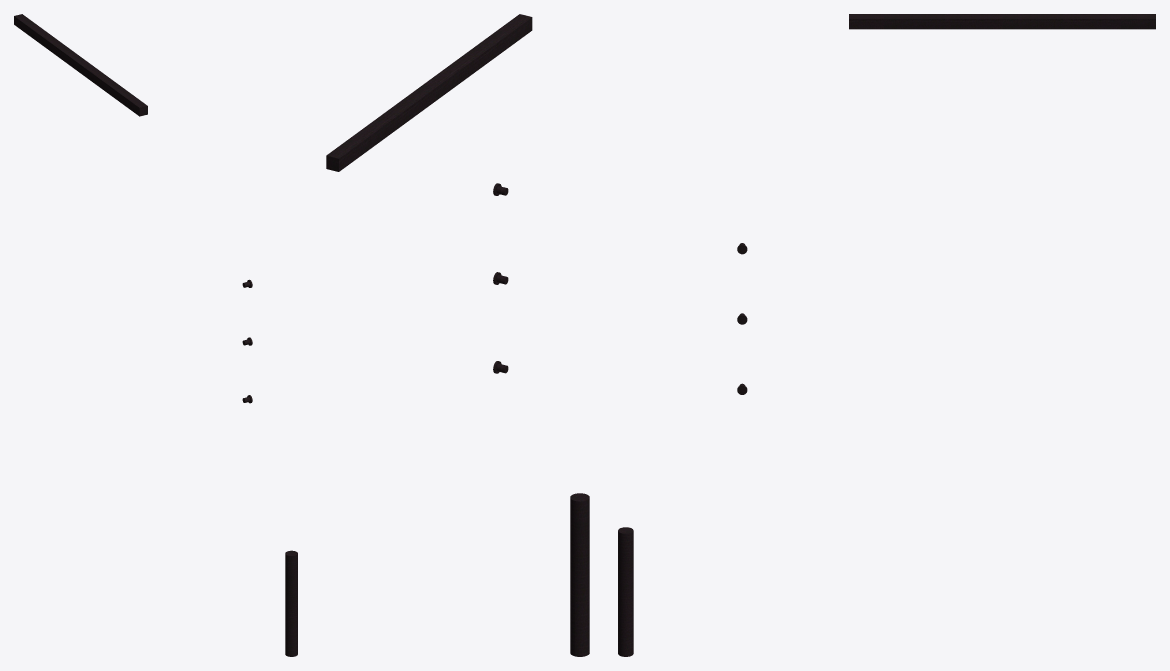
The picture shows the model from 3 angles, left to right: view 1: azimuth 30°, elevation 25°; view 2: azimuth 150°, elevation 25°; view 3: azimuth 270°, elevation 25°; orthographic projection. The views are drawn at different scales.
Bounding box in the file's own units: 0.244 × 1.72 × 1.39.
Materials: 1 (1 with a texture image).
